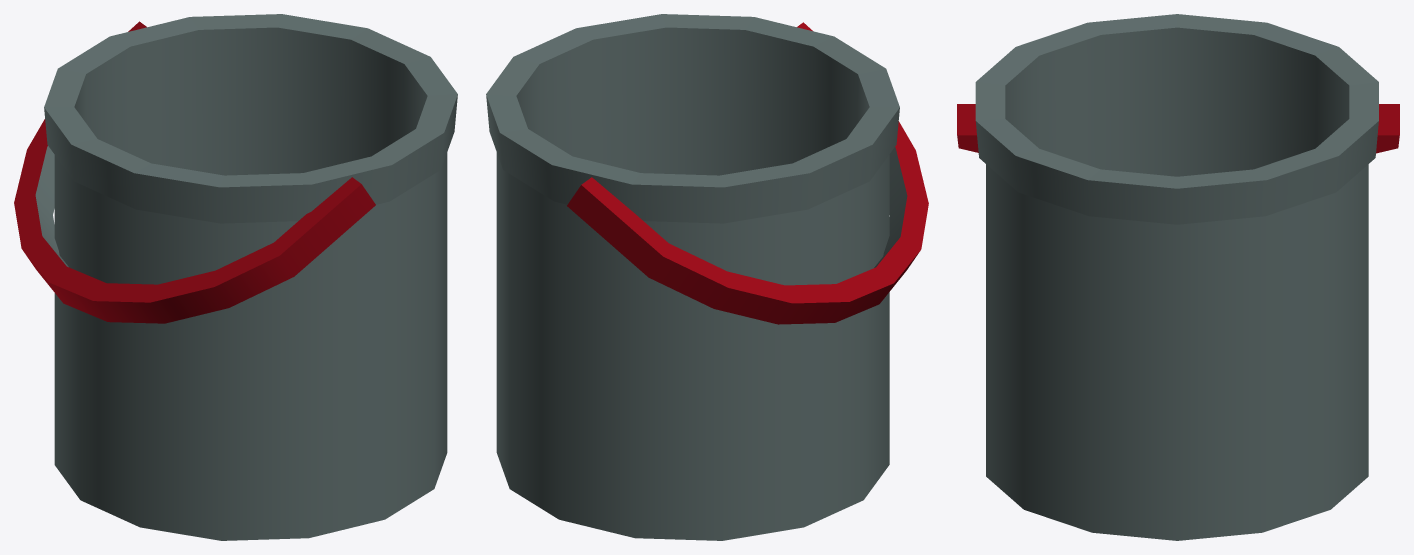
Rendered from Bucket.fbx.
3 renders of one model, left to right at view 1: azimuth 30°, elevation 25°; view 2: azimuth 150°, elevation 25°; view 3: azimuth 270°, elevation 25°, orthographic.
Parts seen in each view (by area): view 1: Bucket; view 2: Bucket; view 3: Bucket.
Part boxes in pixels (left/top/right/bottom): Bucket: left=14, top=14, right=457, bottom=540; Bucket: left=486, top=14, right=928, bottom=540; Bucket: left=957, top=14, right=1399, bottom=540.
Bounding box in the file's own units: 1.9 × 1.71 × 1.92.
Materials: 1 (1 with a texture image).
